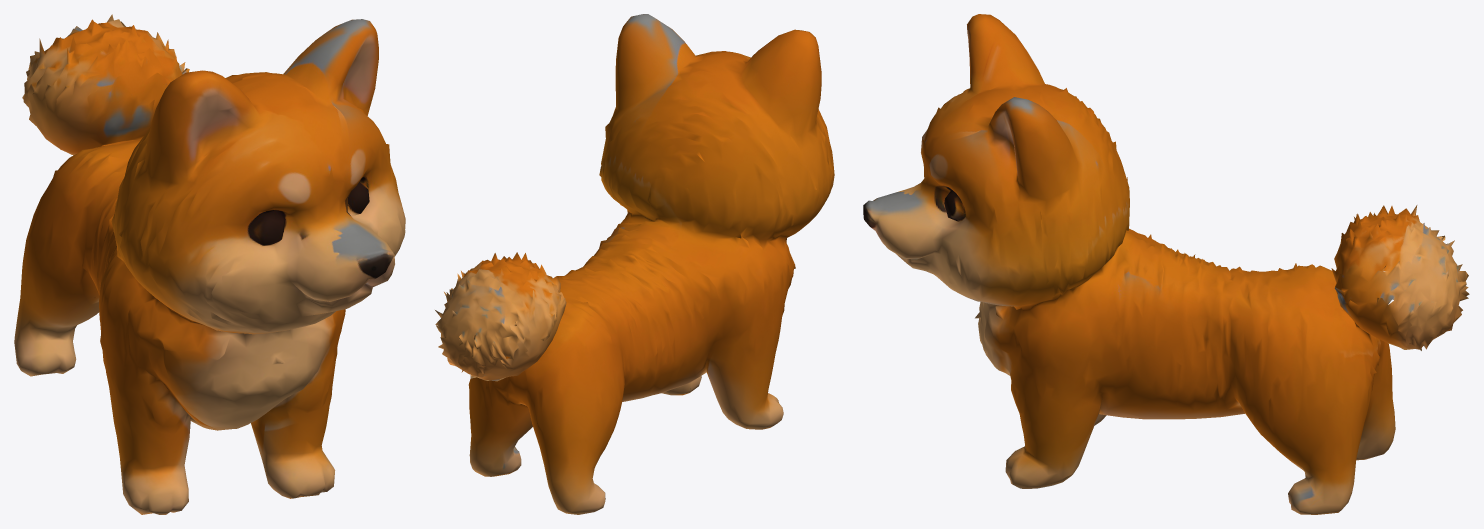
File: shiba_quadruped.glb
3 views of the same model, side by side, from view 1: azimuth 30°, elevation 25°; view 2: azimuth 150°, elevation 25°; view 3: azimuth 270°, elevation 25° (orthographic). The views are drawn at different scales.
Parts seen in each view (by area): view 1: tripo_node_bf8f7ebe-be1d-4c6b-8b46-f5b4e5a2ee9c; view 2: tripo_node_bf8f7ebe-be1d-4c6b-8b46-f5b4e5a2ee9c; view 3: tripo_node_bf8f7ebe-be1d-4c6b-8b46-f5b4e5a2ee9c.
Boxes of the visible parts, x1,y1,x2,y2 form: tripo_node_bf8f7ebe-be1d-4c6b-8b46-f5b4e5a2ee9c: [14, 14, 405, 514]; tripo_node_bf8f7ebe-be1d-4c6b-8b46-f5b4e5a2ee9c: [435, 14, 834, 514]; tripo_node_bf8f7ebe-be1d-4c6b-8b46-f5b4e5a2ee9c: [863, 14, 1469, 514].
Size of the model in its own units: 0.4533 by 0.7432 by 0.9977.
Materials: 1 (1 with a texture image).
